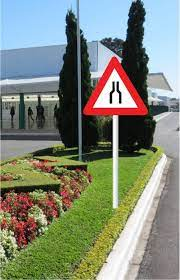narrow-road: (83, 58, 147, 115)
